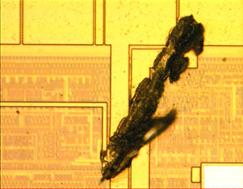SCRATCH: (93, 15, 208, 187)
